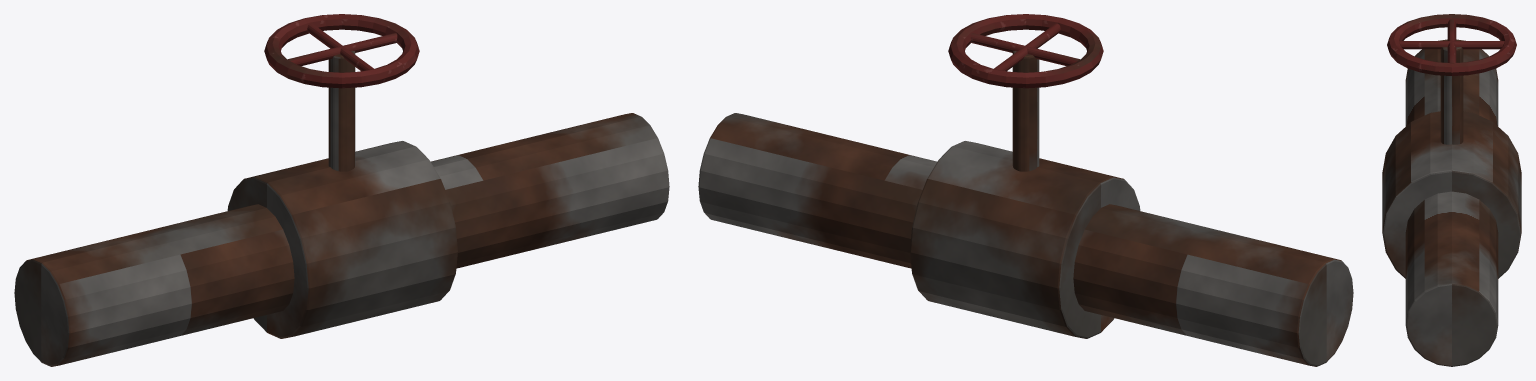
The model's file is F23_pipe_valve.glb.
The picture shows the model from 3 angles, left to right: view 1: azimuth 30°, elevation 25°; view 2: azimuth 150°, elevation 25°; view 3: azimuth 270°, elevation 25°; orthographic projection. The views are drawn at different scales.
Visible parts, largest first — view 1: F23_pipe_valve; view 2: F23_pipe_valve; view 3: F23_pipe_valve.
Boxes of the visible parts, x1,y1,x2,y2 form: F23_pipe_valve: [14, 14, 669, 366]; F23_pipe_valve: [698, 14, 1353, 366]; F23_pipe_valve: [1382, 14, 1521, 366].
Size of the model in its own units: 0.6 by 0.2592 by 0.144.
Materials: 2 (2 with a texture image).
